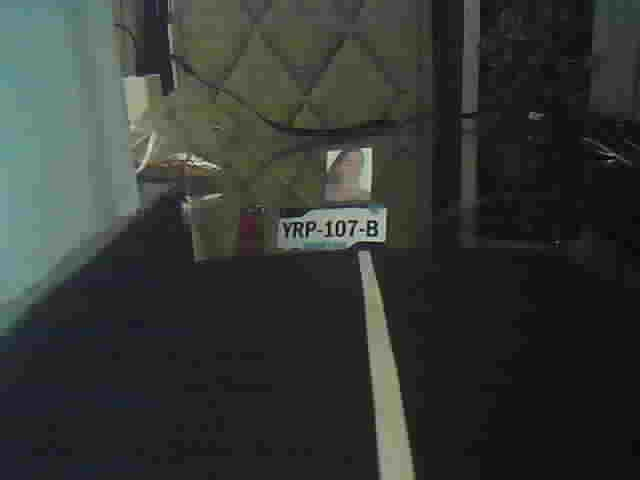PLACA: (275, 202, 391, 253)
ROSTRO: (326, 149, 371, 201)
